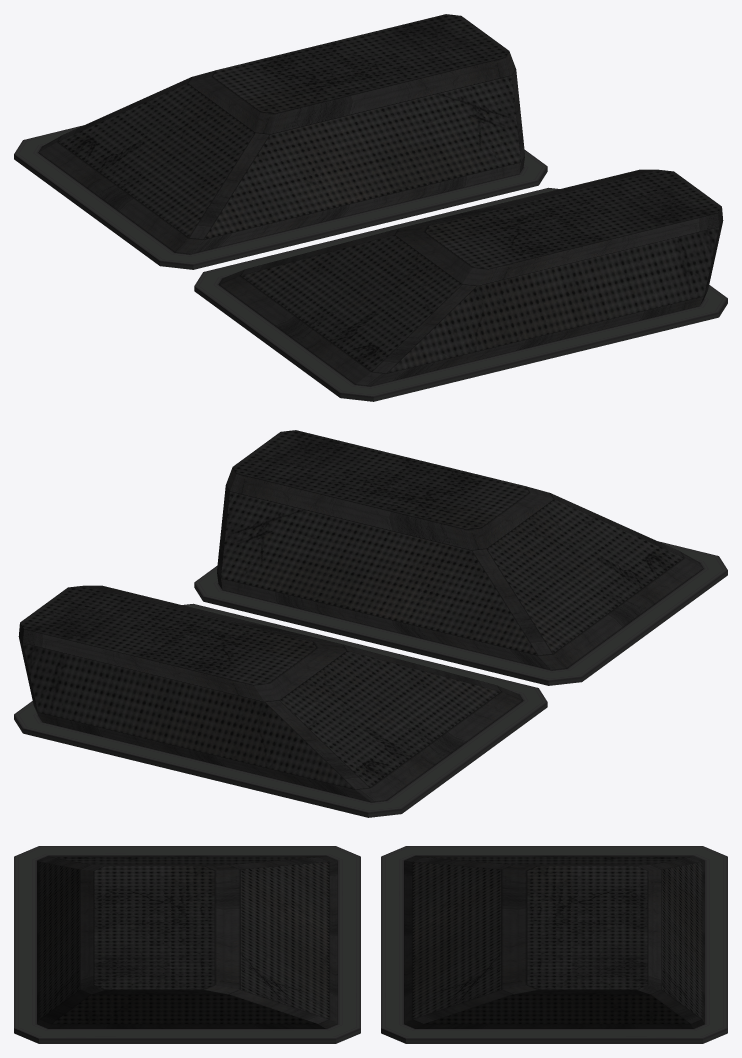
The model's file is p6_hijacked_speed_boat_lock_lod0.glb.
The picture shows the model from 3 angles, top to bottom: view 1: azimuth 30°, elevation 25°; view 2: azimuth 150°, elevation 25°; view 3: azimuth 270°, elevation 25°; orthographic projection.
Parts seen in each view (by area): view 1: surf0, surf2, surf1; view 2: surf0, surf2, surf1; view 3: surf0, surf1, surf2.
Part boxes in pixels (x1,y1,x2,y2): surf0: [58, 14, 721, 372]; surf2: [38, 51, 723, 386]; surf1: [14, 125, 727, 401]; surf0: [20, 430, 683, 788]; surf2: [18, 467, 703, 802]; surf1: [14, 541, 727, 817]; surf0: [39, 857, 702, 1023]; surf1: [14, 846, 727, 1043]; surf2: [37, 855, 704, 1028].
Bounding box in the file's own units: 85 × 13 × 124.
